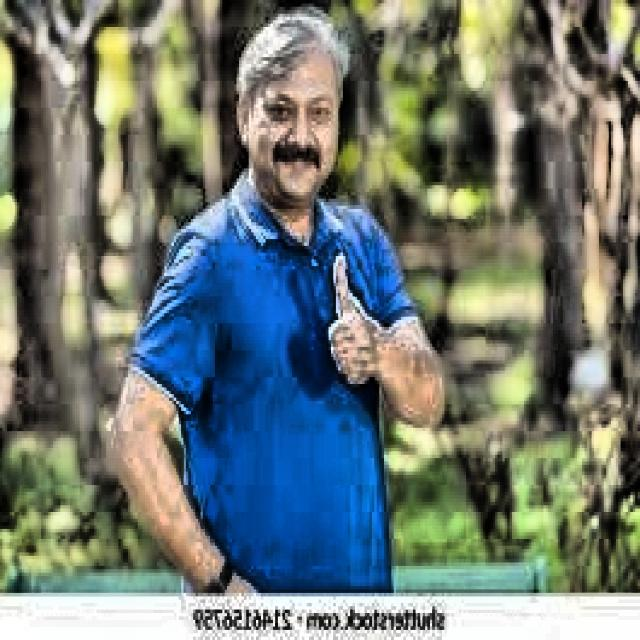Human: (128, 23, 458, 624)
